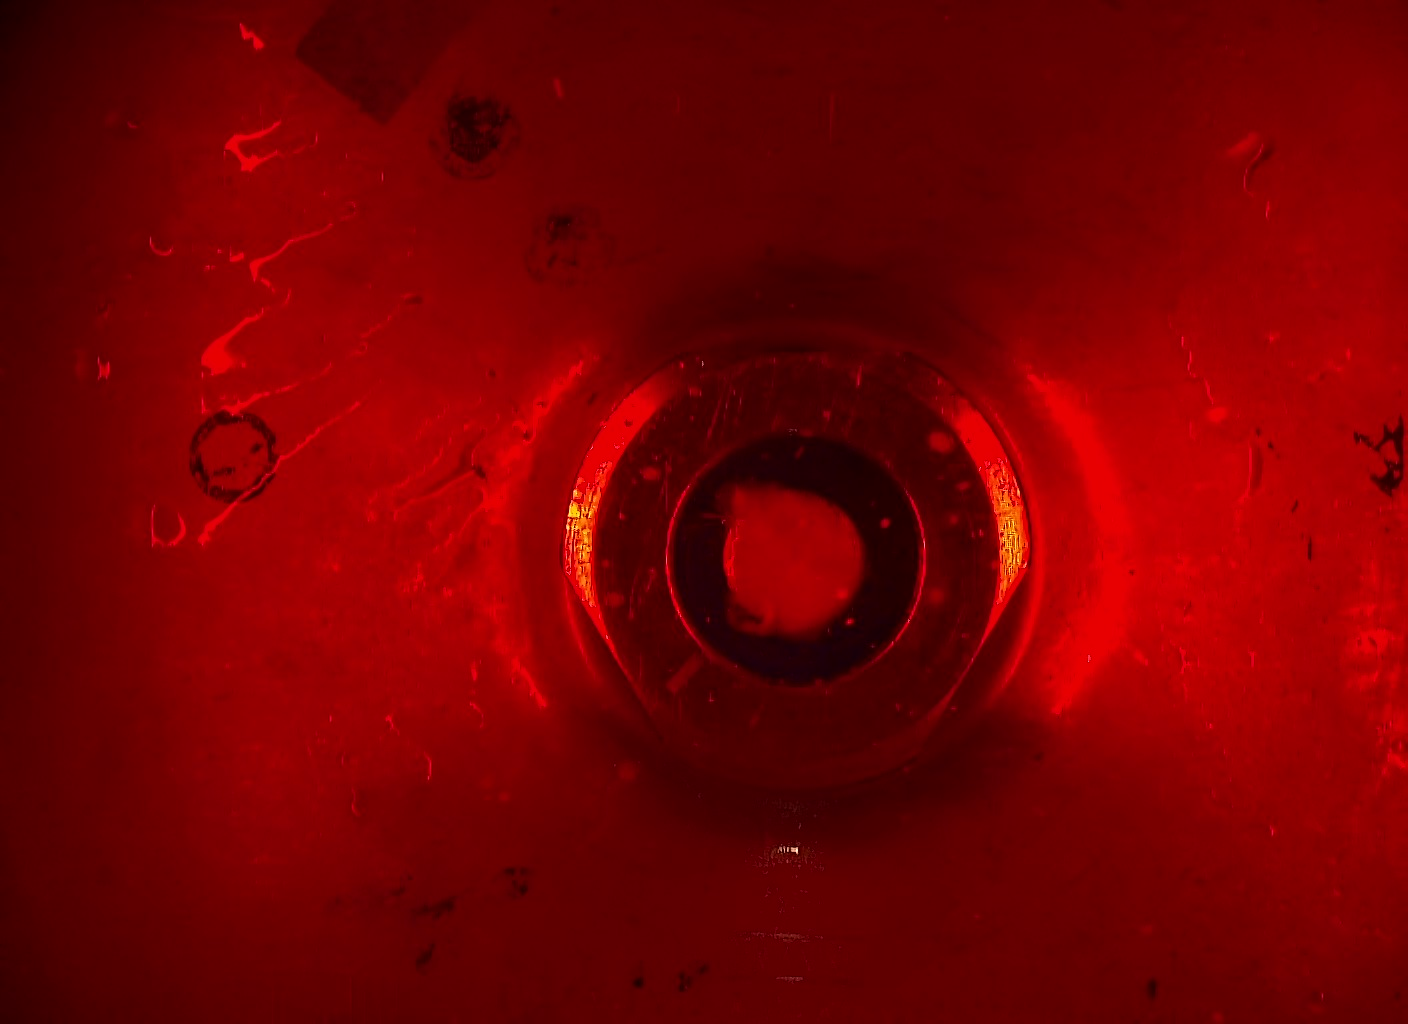pena: (709, 473, 910, 661), (910, 417, 969, 457), (601, 573, 642, 626), (920, 576, 950, 621), (634, 457, 672, 491)
